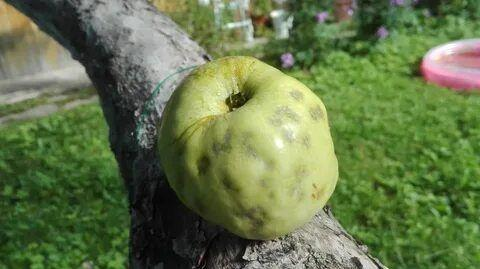Apple: (160, 52, 339, 240)
